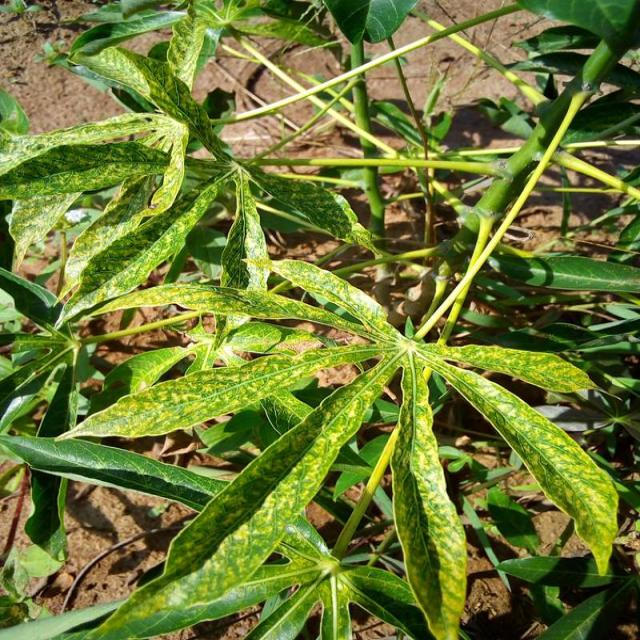cassava leaf: (1, 1, 637, 637), (81, 346, 401, 639), (389, 345, 468, 638)
